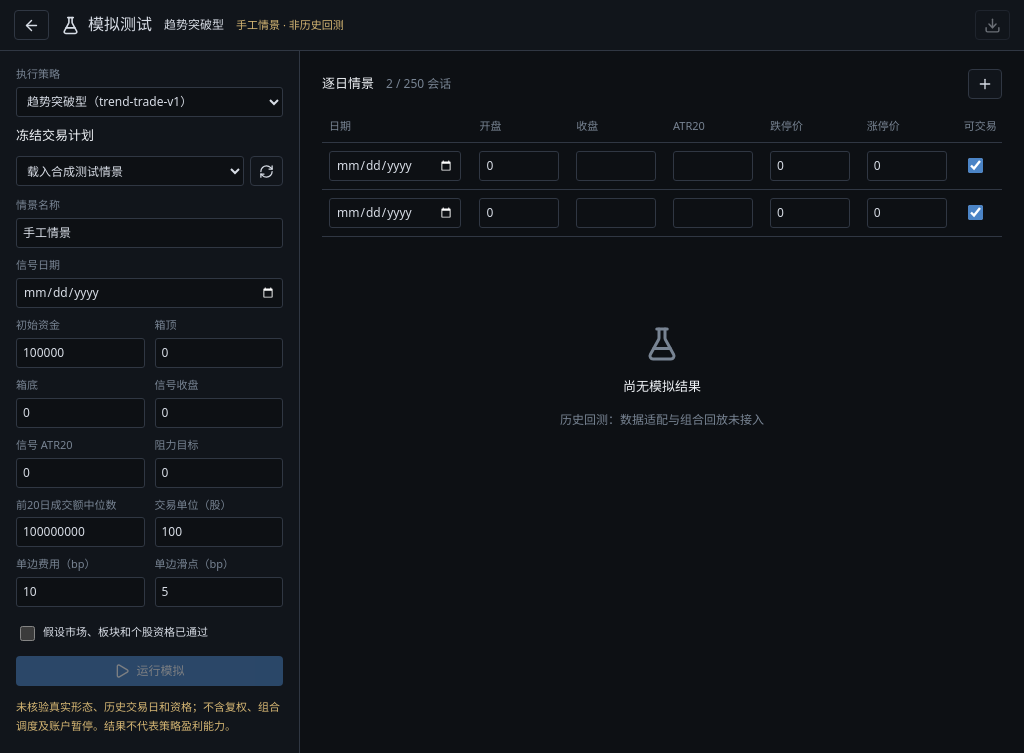
Scenario: TradeSimulationWorkspace › surfaces rejected input without manufacturing a result
Select "合成情景：目标退出" in the dropdown named "载入合成测试情景" at (130, 171), box [16,156,244,186]
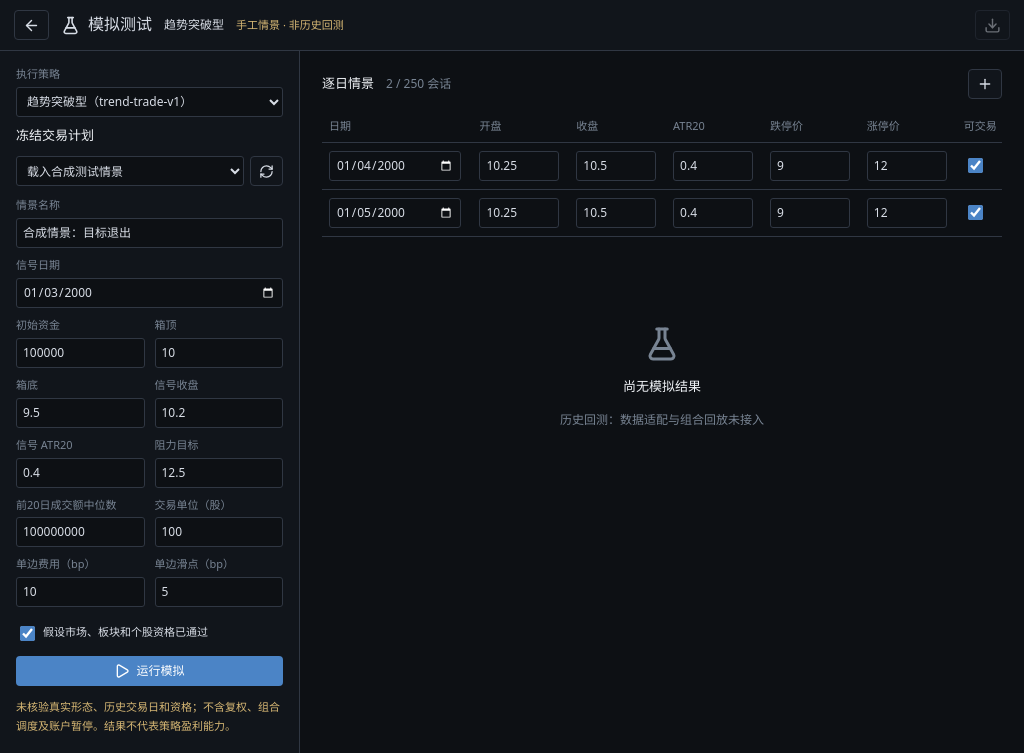
Click the button "运行模拟".
click(150, 671)  # box [16,656,283,686]
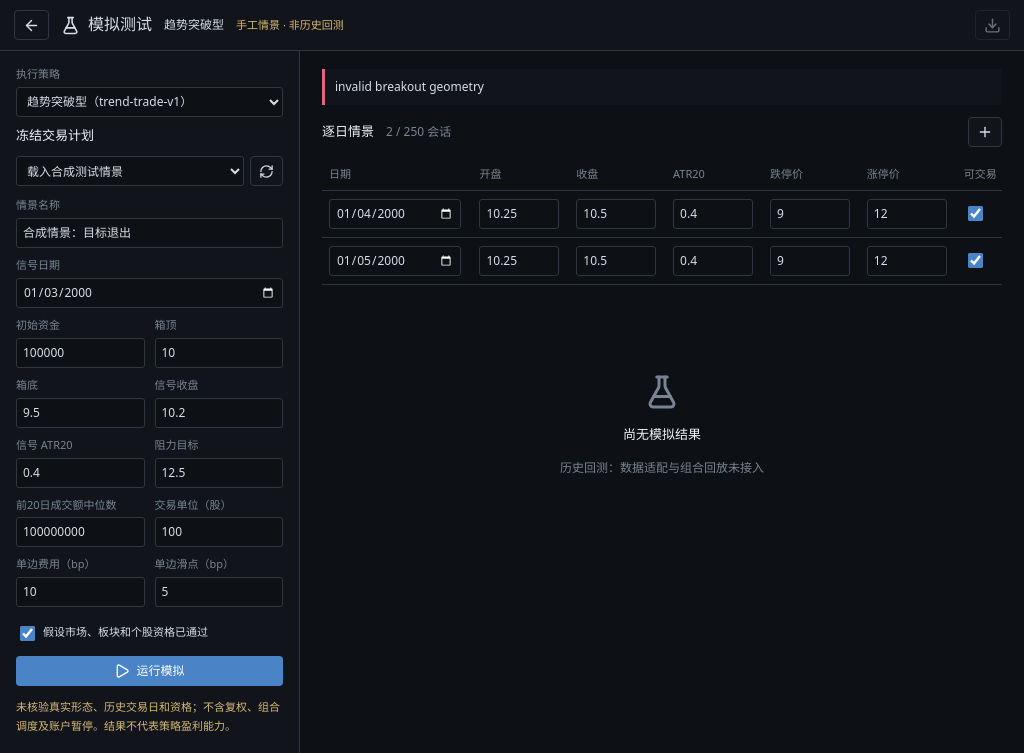
Expected: the heading "尚无模拟结果" is shown, [623,426,701,444]
Result: the message reads "invalid breakout geometry" at [335,78,484,95]
